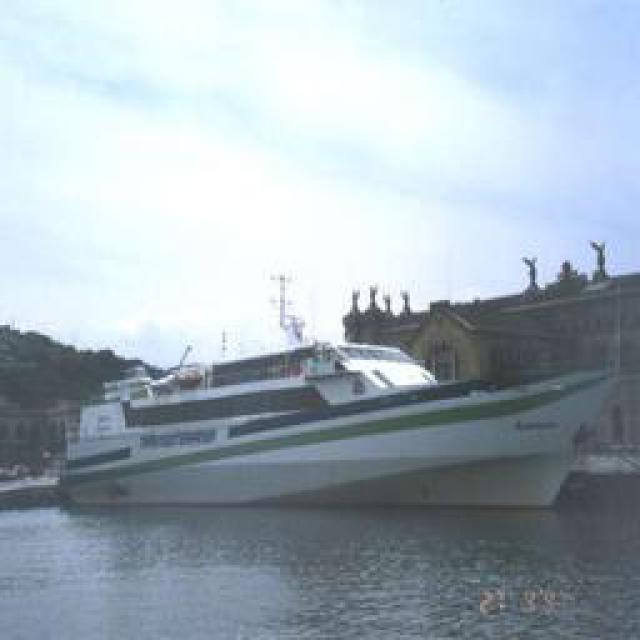Ship: (51, 336, 614, 511)
